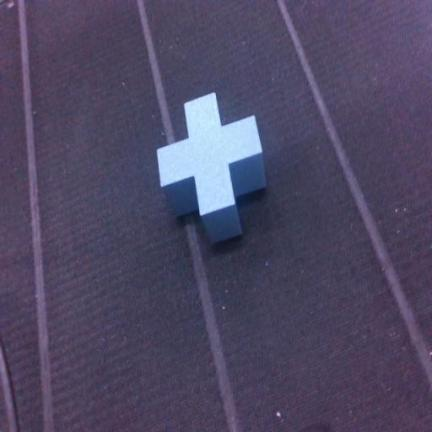cross: (157, 93, 265, 242)
